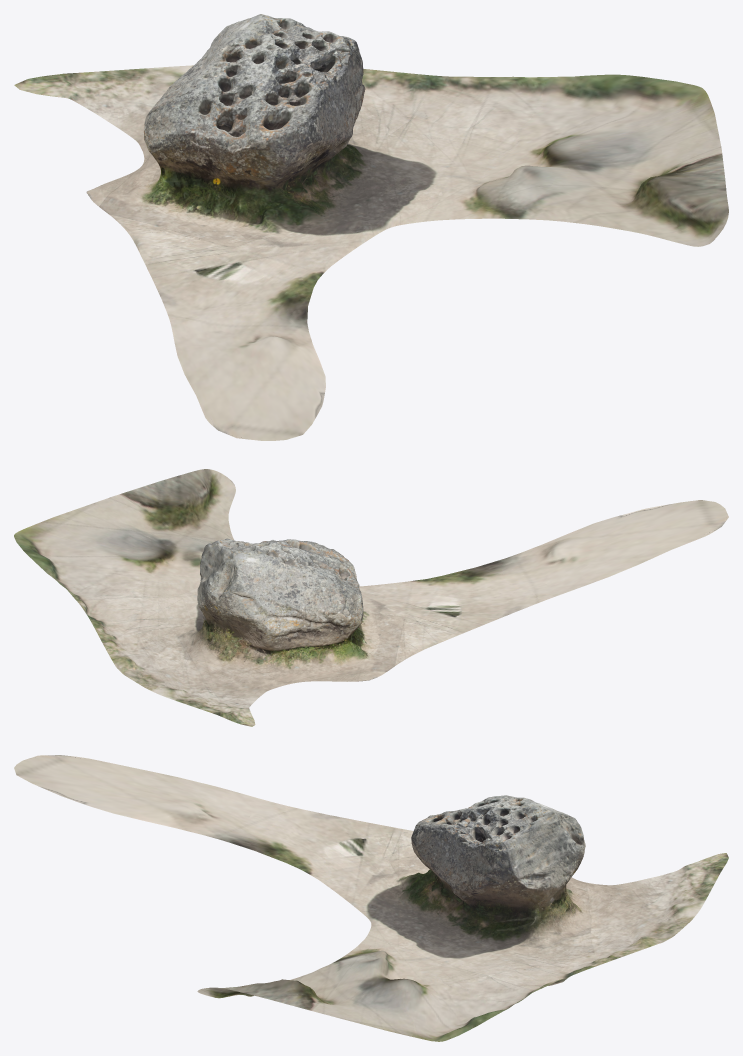
Rendered from ingapirca_ecuador_ruins_lunar_calendar.glb.
3 views of the same model, one above another, from view 1: azimuth 30°, elevation 25°; view 2: azimuth 150°, elevation 25°; view 3: azimuth 270°, elevation 25° (orthographic). The views are drawn at different scales.
Visible parts, largest first — view 1: Object_2; view 2: Object_2; view 3: Object_2.
Boxes of the visible parts, x1,y1,x2,y2 form: Object_2: (14,14,728,440); Object_2: (14,469,728,726); Object_2: (14,755,728,1041).
Size of the model in its own units: 10.3 by 1.88 by 11.17.
Materials: 1 (1 with a texture image).
